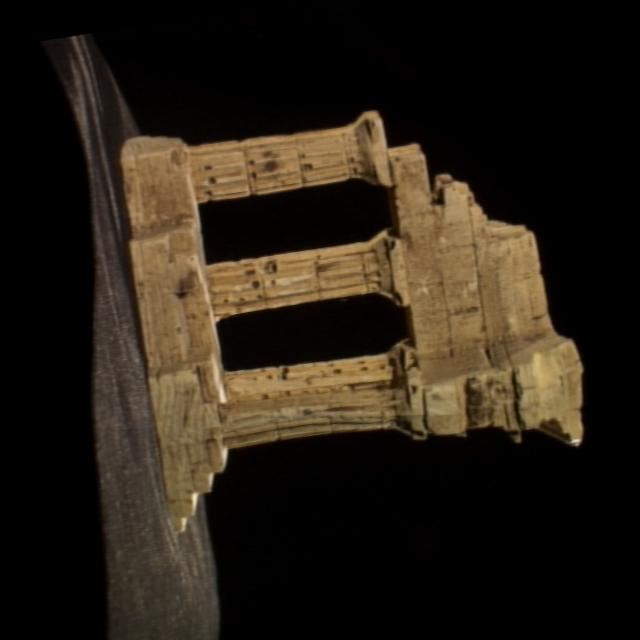Instance-Segmentation: (120, 112, 581, 532)
